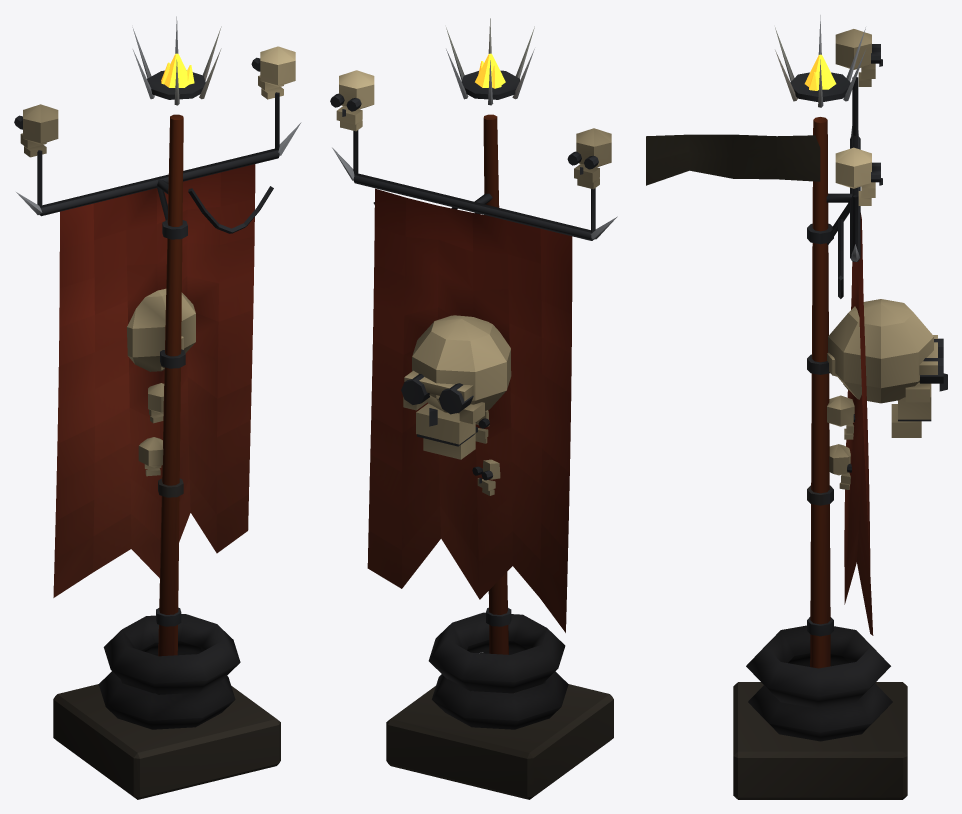
Rendered from banner_skull.glb.
3 renders of one model, left to right at view 1: azimuth 30°, elevation 25°; view 2: azimuth 150°, elevation 25°; view 3: azimuth 270°, elevation 25°, orthographic. The views are drawn at different scales.
Visible parts, largest first — view 1: canvas, concrete_dark, rubber, rust, bone, metal_dark, spike, light_amber; view 2: canvas, concrete_dark, bone, rubber, metal_dark, rust, spike, light_amber; view 3: bone, concrete_dark, canvas, rubber, rust, metal_dark, spike, light_amber.
Boxes of the visible parts, x1,y1,x2,y2 form: canvas: (53,164,255,597); concrete_dark: (53,684,280,799); rubber: (98,614,240,729); rust: (158,114,183,656); bone: (20,46,295,476); metal_dark: (14,57,279,626); spike: (16,16,301,214); light_amber: (161,53,194,87); canvas: (367,188,572,632); concrete_dark: (386,684,613,799); bone: (336,70,611,495); rubber: (428,612,568,729); metal_dark: (330,70,598,626); rust: (483,114,508,654); spike: (332,18,617,239); light_amber: (475,53,505,88); bone: (827,29,937,489); concrete_dark: (733,682,907,799); canvas: (646,134,873,635); rubber: (746,625,892,741); rust: (810,117,830,668); metal_dark: (790,44,947,636); spike: (775,15,865,261); light_amber: (804,54,836,90).
Size of what is drawn, in the model's own units: 3.5 by 8.35 by 3.12.
